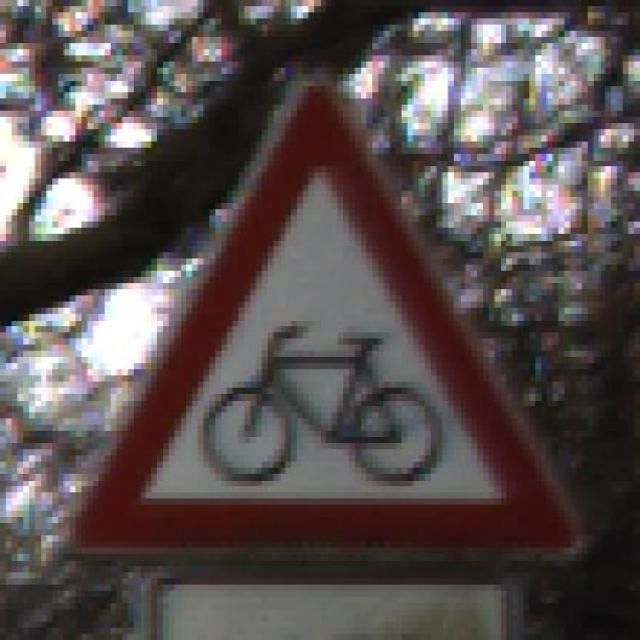CYCLE ROUTE AHEAD WARNING: (47, 68, 605, 572)
